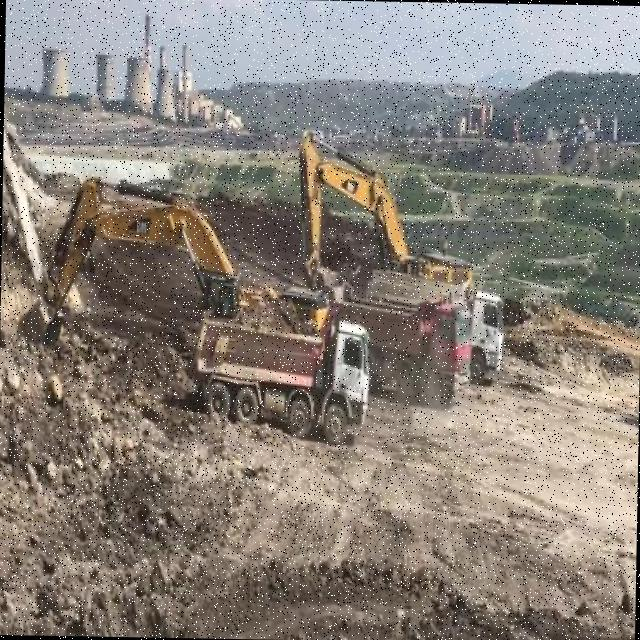Dump Truck: (194, 311, 369, 449), (337, 299, 471, 406), (470, 286, 504, 382)
Excavator: (12, 168, 316, 329), (294, 127, 479, 280)
